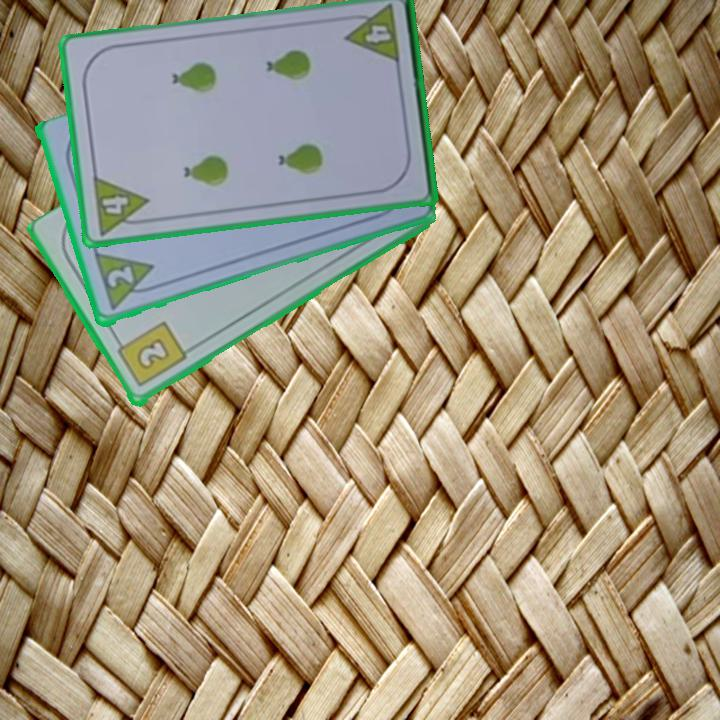2b: (111, 318, 190, 391)
2p: (103, 263, 137, 291)
4p: (89, 173, 154, 238), (340, 3, 403, 68)
